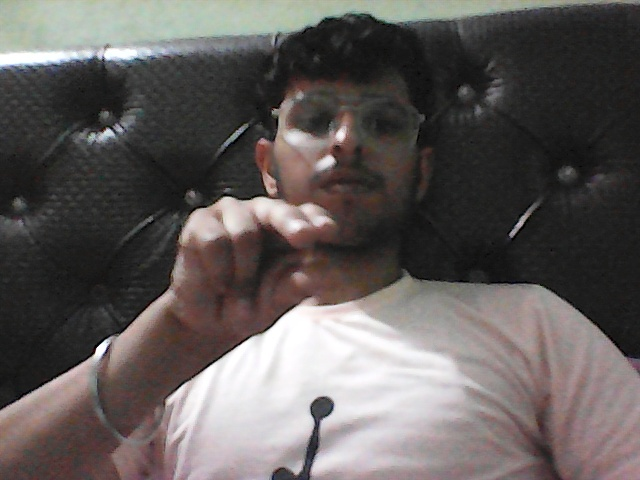no: (112, 163, 341, 347)
